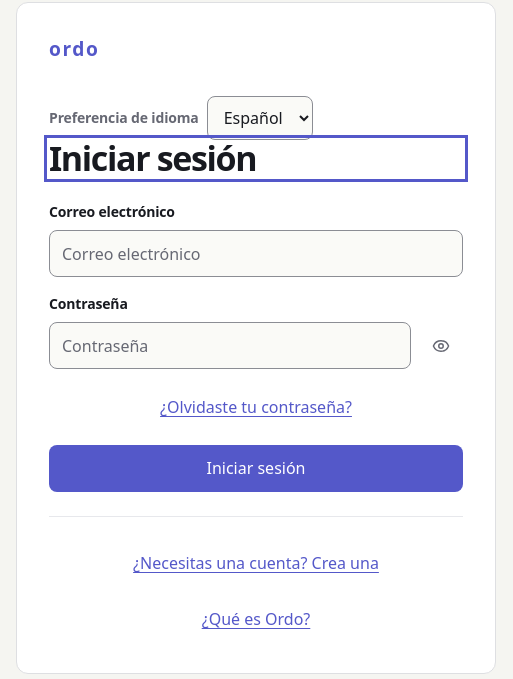
Test: authentication pages in Spanish › renders the login and registration pages in Spanish before sign-in
This screenshot has width=513, height=679.
Check: the text "ordo" is shown, box [49,35,99,62]
Check: the button named "Mostrar contraseña" is shown, box [419,322,463,369]
Click the button "¿Necesitas una cuenta? Crea una" at (256, 563), box [120,541,392,585]
(page scrolled)
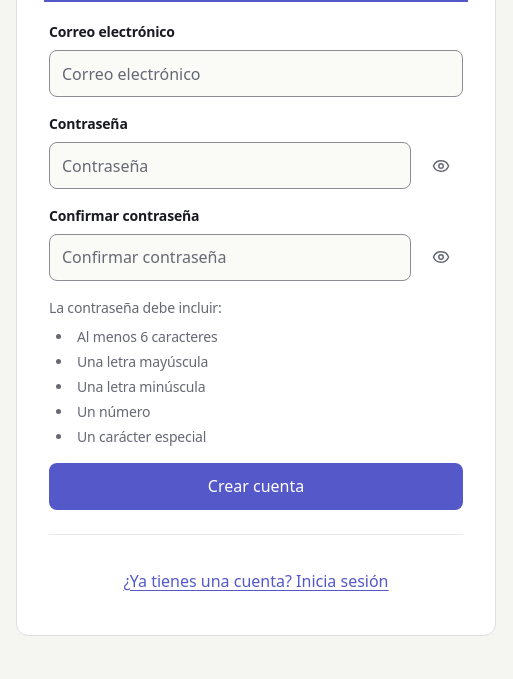
Check: the button named "Mostrar confirmación de contraseña" is shown, box [419,234,463,281]
Check: the button "Crear cuenta" is shown, box [49,463,463,510]
